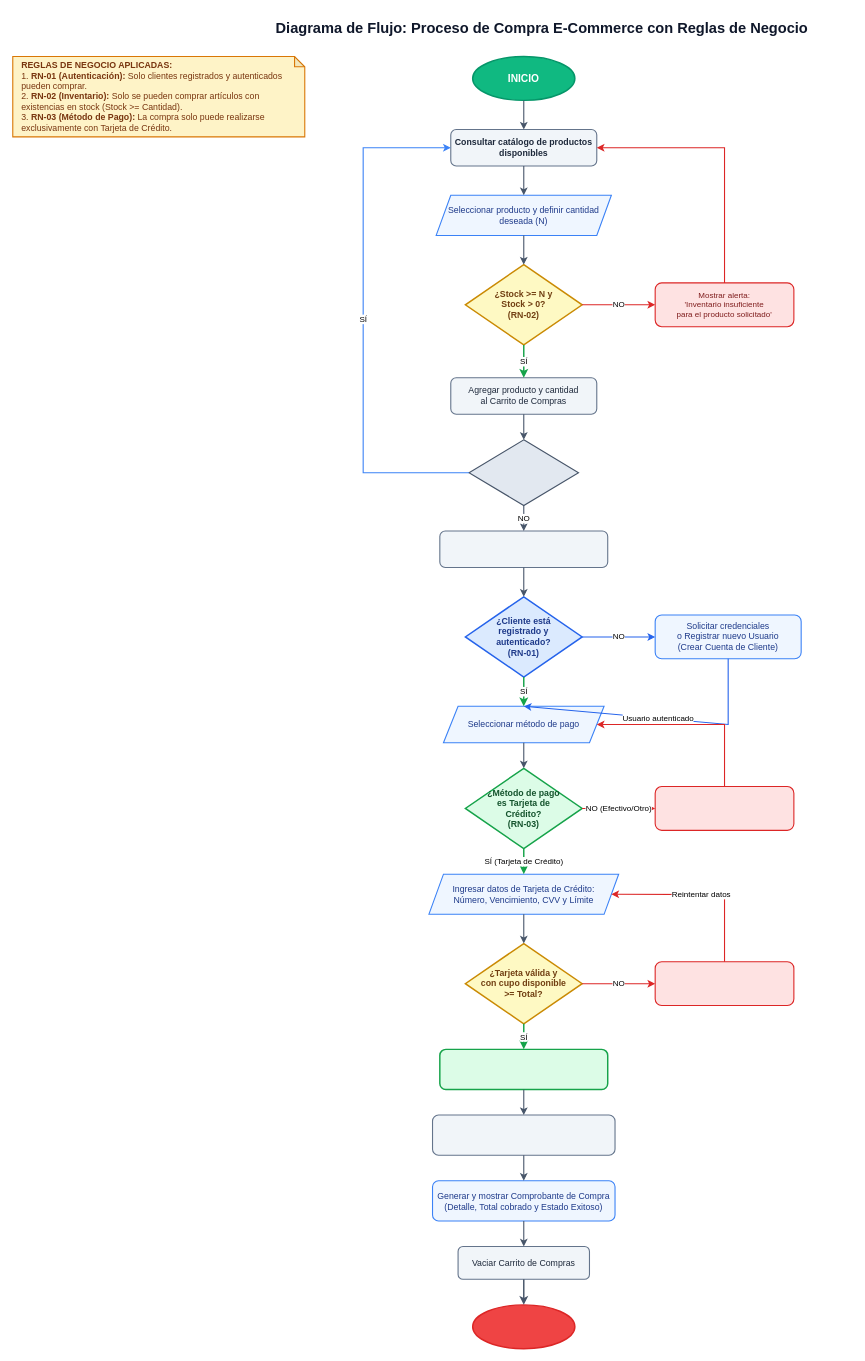
Image size: 865x1361. Some labels were removed from this diagram. The centre of each missing label's shape, as x and y in pixels:
Actualizar inventario en tiempo real: Stock = Stock - Cantidad (para cada item): the point at 523,1134
Calcular Subtotal, Impuesto (IVA 12%) y Total de la Orden: the point at 523,549
FIN: the point at 523,1326
Mostrar alerta: 'Tarjeta rechazada o cupo/límite insuficiente': the point at 724,983
Procesar cobro a la Tarjeta de Crédito (Deducir cupo/límite disponible): the point at 523,1069
Rechazar compra: 'La compra solo puede ser con Tarjeta de Crédito': the point at 724,808
¿Desea agregar otro producto?: the point at 523,472
